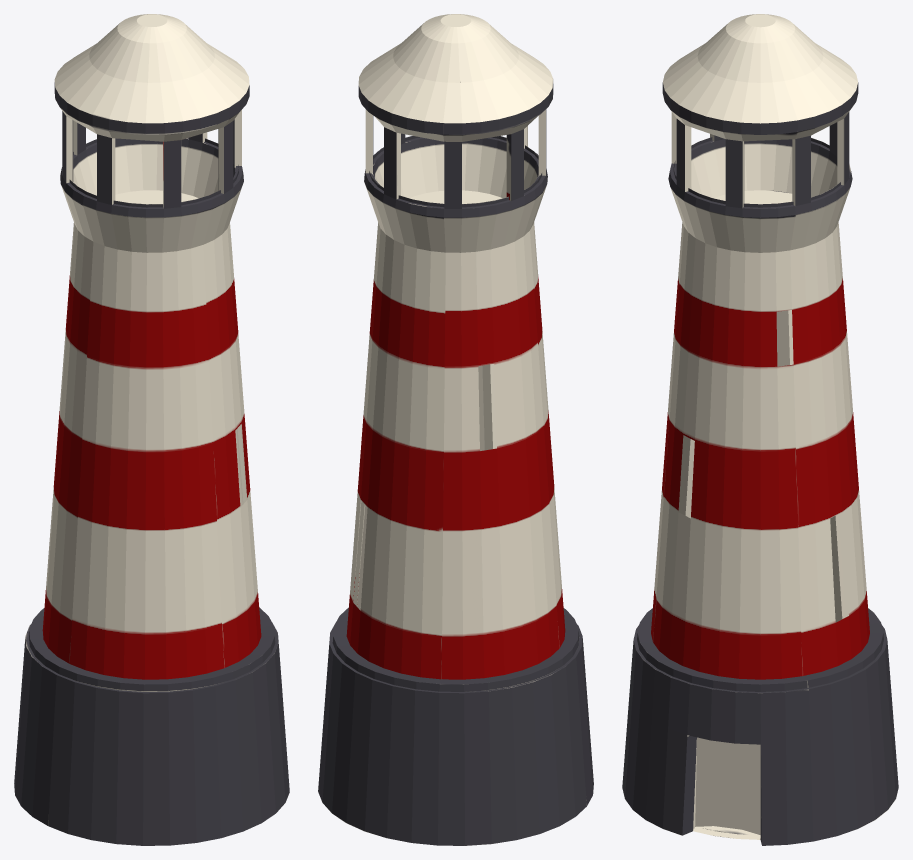
Rendered from Lighthouse.fbx.
The picture shows the model from 3 angles, left to right: view 1: azimuth 30°, elevation 25°; view 2: azimuth 150°, elevation 25°; view 3: azimuth 270°, elevation 25°; orthographic projection.
Parts seen in each view (by area): view 1: Cylinder; view 2: Cylinder; view 3: Cylinder.
Part boxes in pixels (box(x1,y1,x2,y2)): Cylinder: box(14, 14, 289, 845); Cylinder: box(318, 14, 593, 845); Cylinder: box(622, 14, 898, 845).
Bounding box in the file's own units: 1334 × 4089 × 1334.
